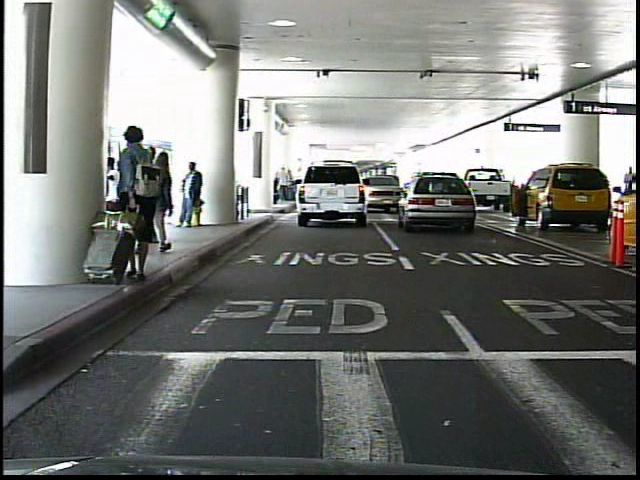person: (116, 123, 167, 286), (142, 145, 170, 239), (178, 158, 207, 232), (615, 163, 636, 214)
